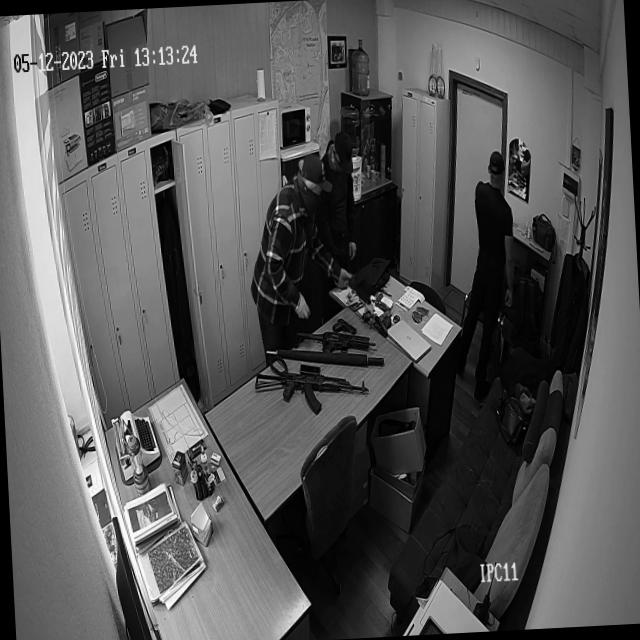gun: (254, 367, 371, 418), (294, 324, 376, 357), (332, 315, 359, 336)
person: (467, 151, 526, 372), (321, 126, 363, 207)
person with a gun: (252, 144, 342, 356)
